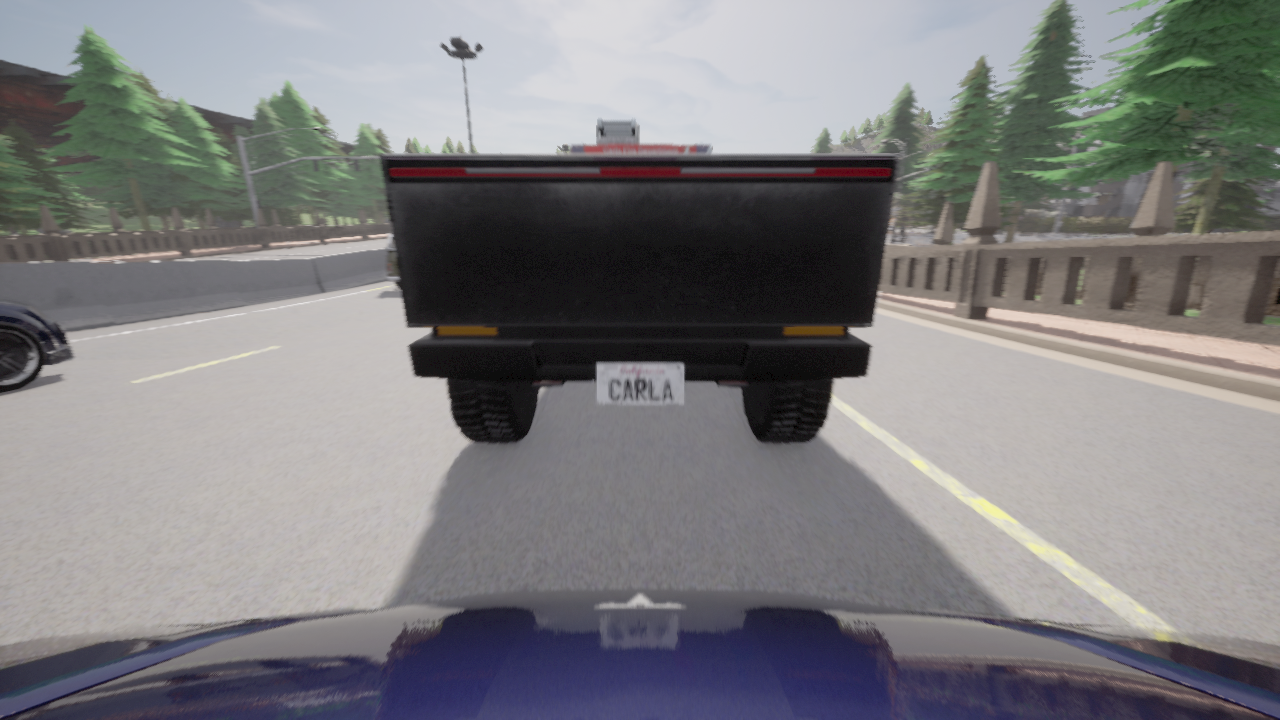cyclist: (0, 588, 1279, 719), (380, 154, 900, 442), (568, 119, 711, 153), (386, 230, 400, 289)
pedestrian: (924, 226, 934, 243), (900, 223, 904, 237), (889, 222, 893, 235), (910, 230, 912, 237), (917, 232, 919, 236)
